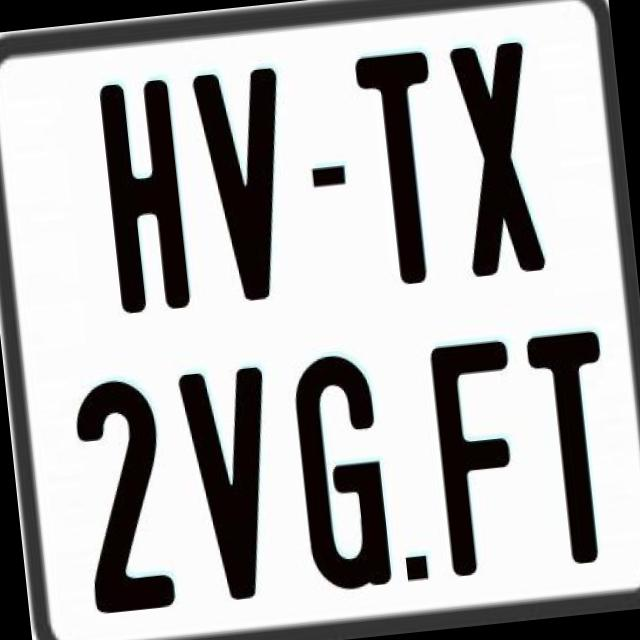2: (68, 374, 178, 616)
F: (428, 339, 532, 583)
G: (290, 346, 400, 588)
H: (95, 76, 195, 322)
T: (352, 49, 457, 287), (523, 330, 619, 568)
V: (176, 364, 290, 606), (191, 67, 304, 304)
X: (445, 36, 547, 278)
